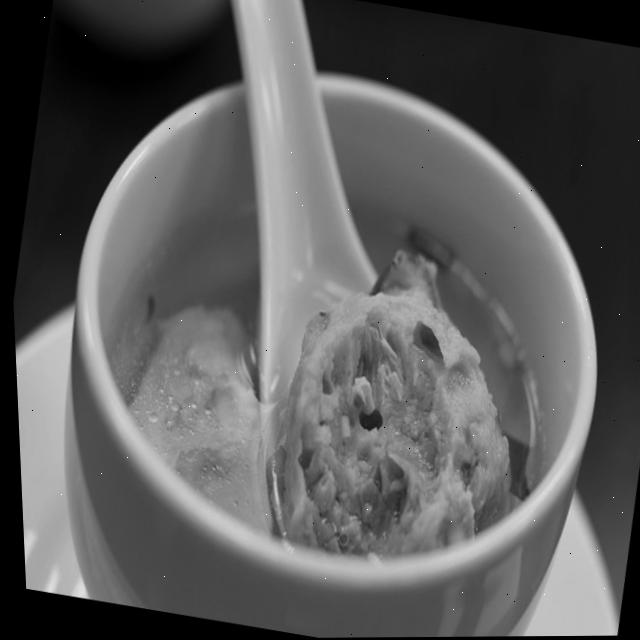熟制海鲜: (8, 20, 640, 640)
